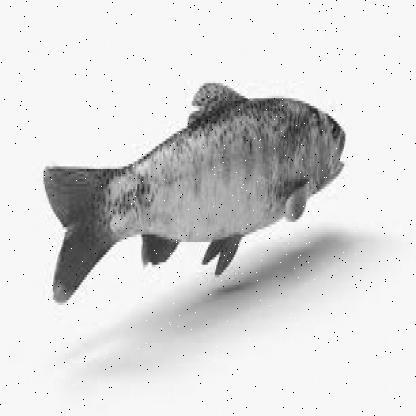fish: (42, 78, 344, 298)
